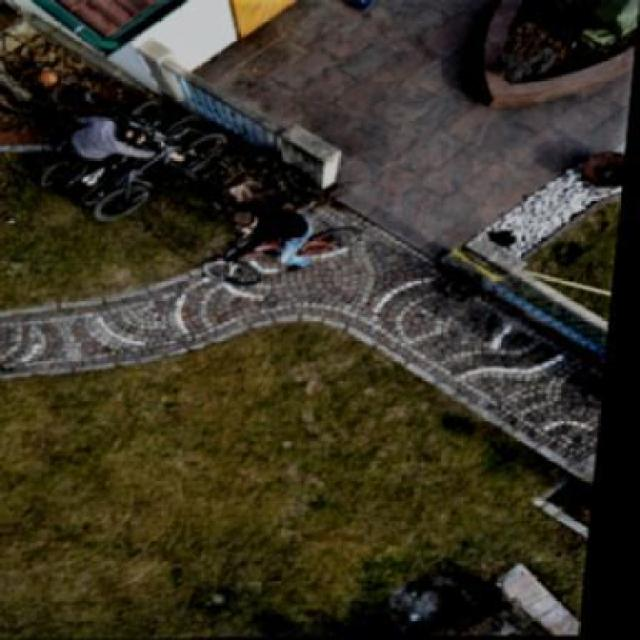Person: (218, 198, 340, 277), (47, 112, 178, 168)
